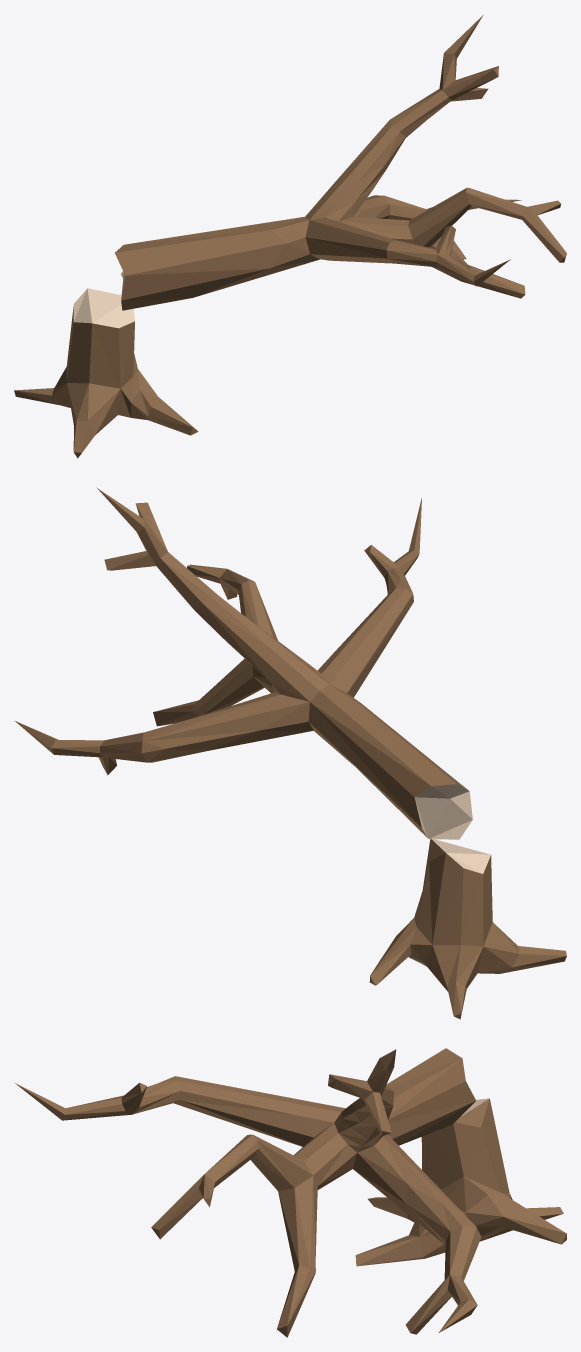
Rendered from Baum_umgekippt_Mesh_Sep.fbx.
3 renders of one model, top to bottom at view 1: azimuth 30°, elevation 25°; view 2: azimuth 150°, elevation 25°; view 3: azimuth 270°, elevation 25°, orthographic. The views are drawn at different scales.
Parts seen in each view (by area): view 1: Krone, Stamm; view 2: Krone, Stamm; view 3: Krone, Stamm.
Boxes of the visible parts, x1,y1,x2,y2 form: Krone: (115,15,566,310); Stamm: (14,288,198,458); Krone: (14,487,472,839); Stamm: (369,838,566,1019); Krone: (15,1048,481,1337); Stamm: (355,1098,566,1266).
Size of the model in its own units: 111 by 75.25 by 94.59.
